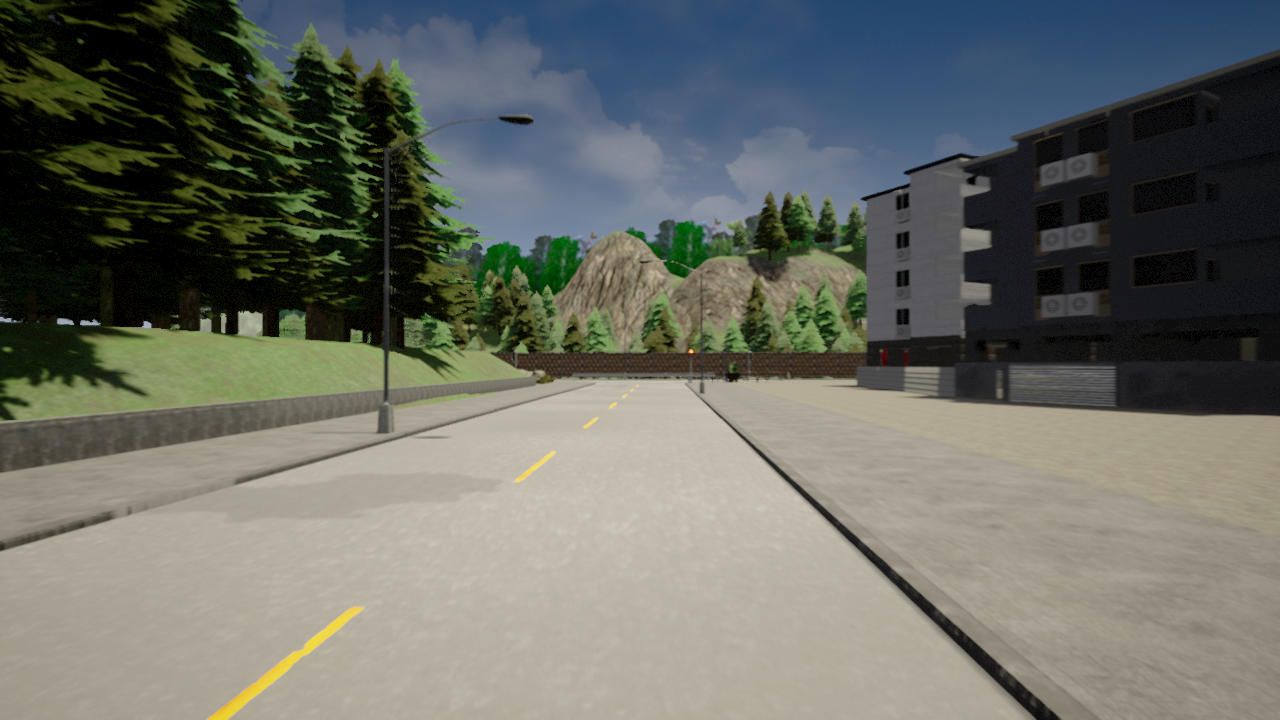red: (688, 347, 695, 360)
